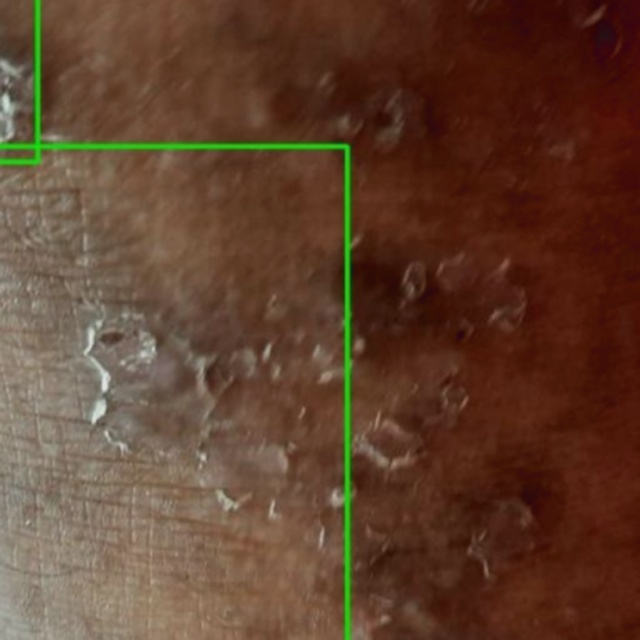Tinea Corporis: (0, 147, 347, 639)
